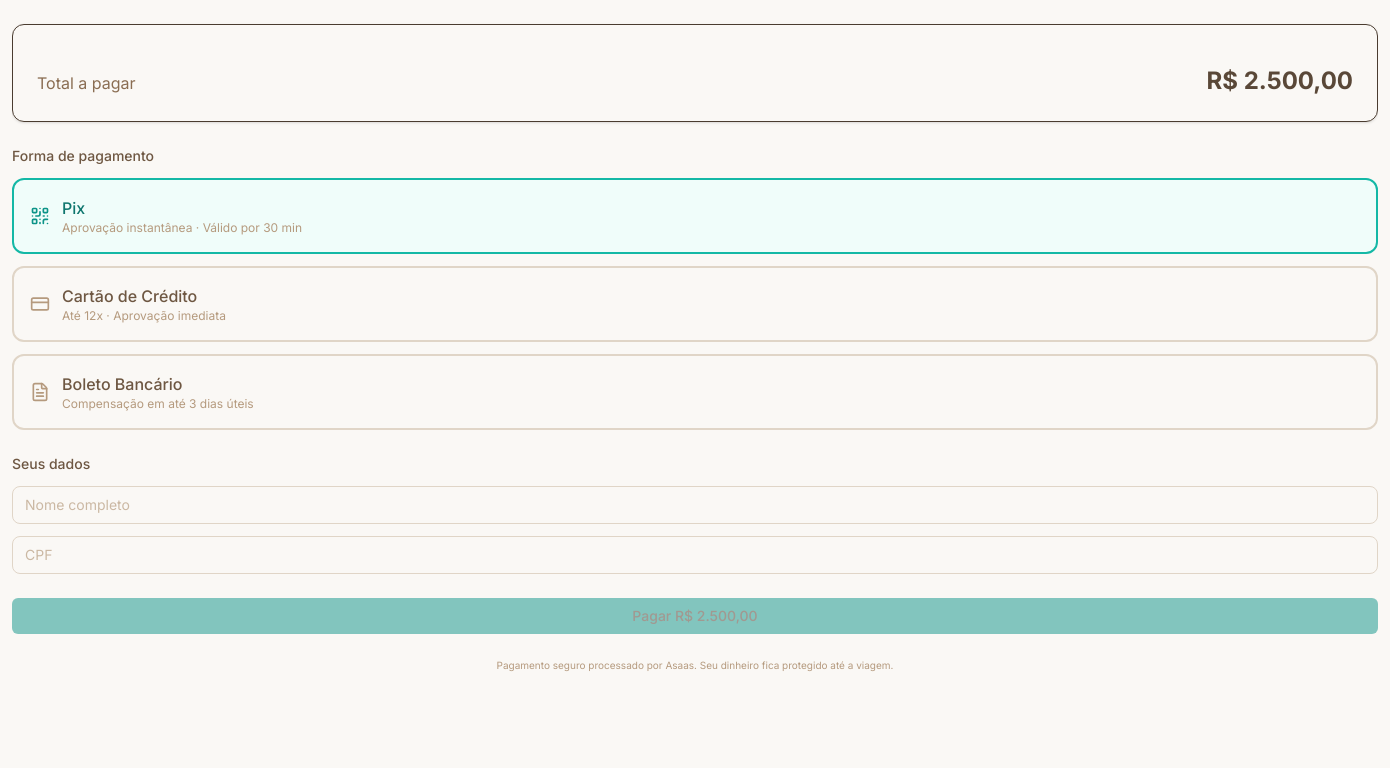
Scenario: CheckoutForm › enables submit when fields are filled
In the field with test id "input-name": {"x": 695, "y": 505} left=12, top=486, right=1378, bottom=524, type "João Silva"
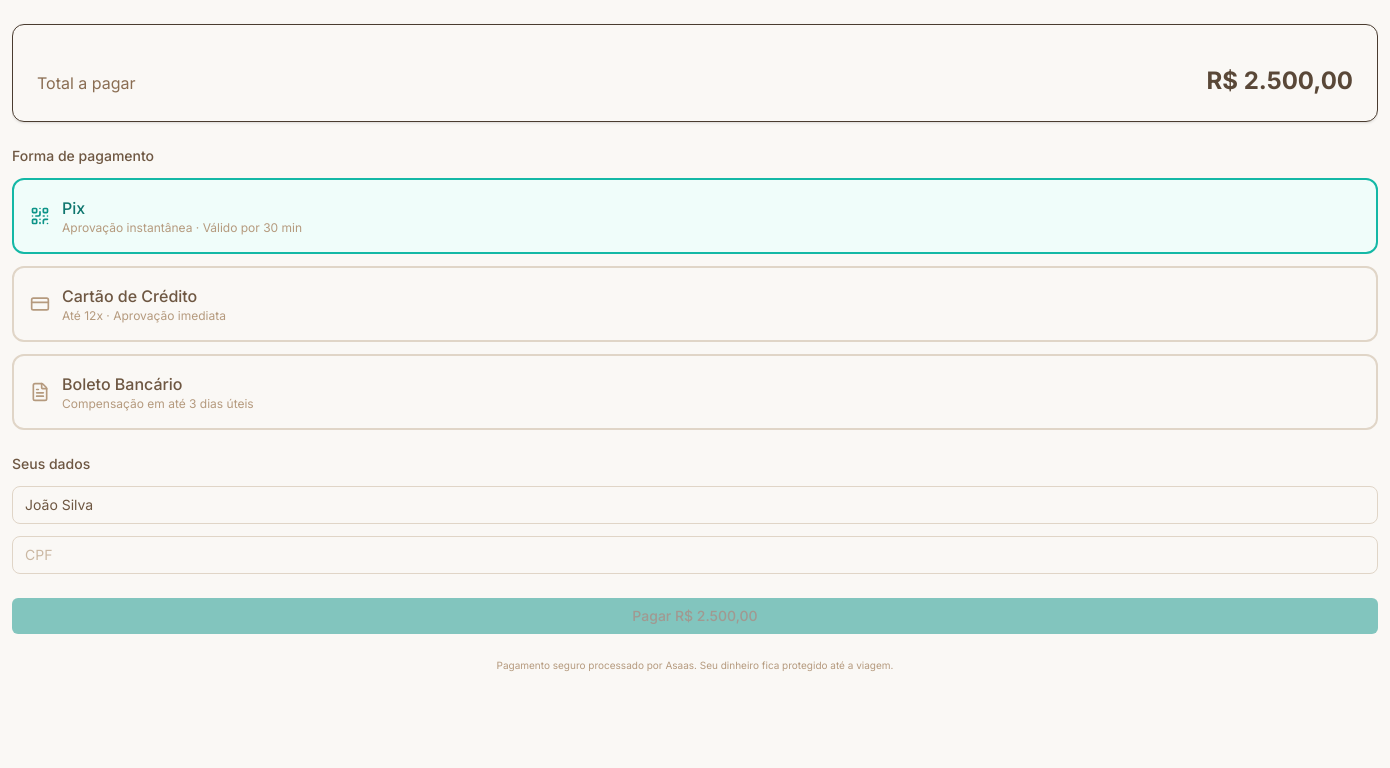
In the field with test id "input-cpf": {"x": 695, "y": 555} left=12, top=536, right=1378, bottom=574, type "123.456.789-00"
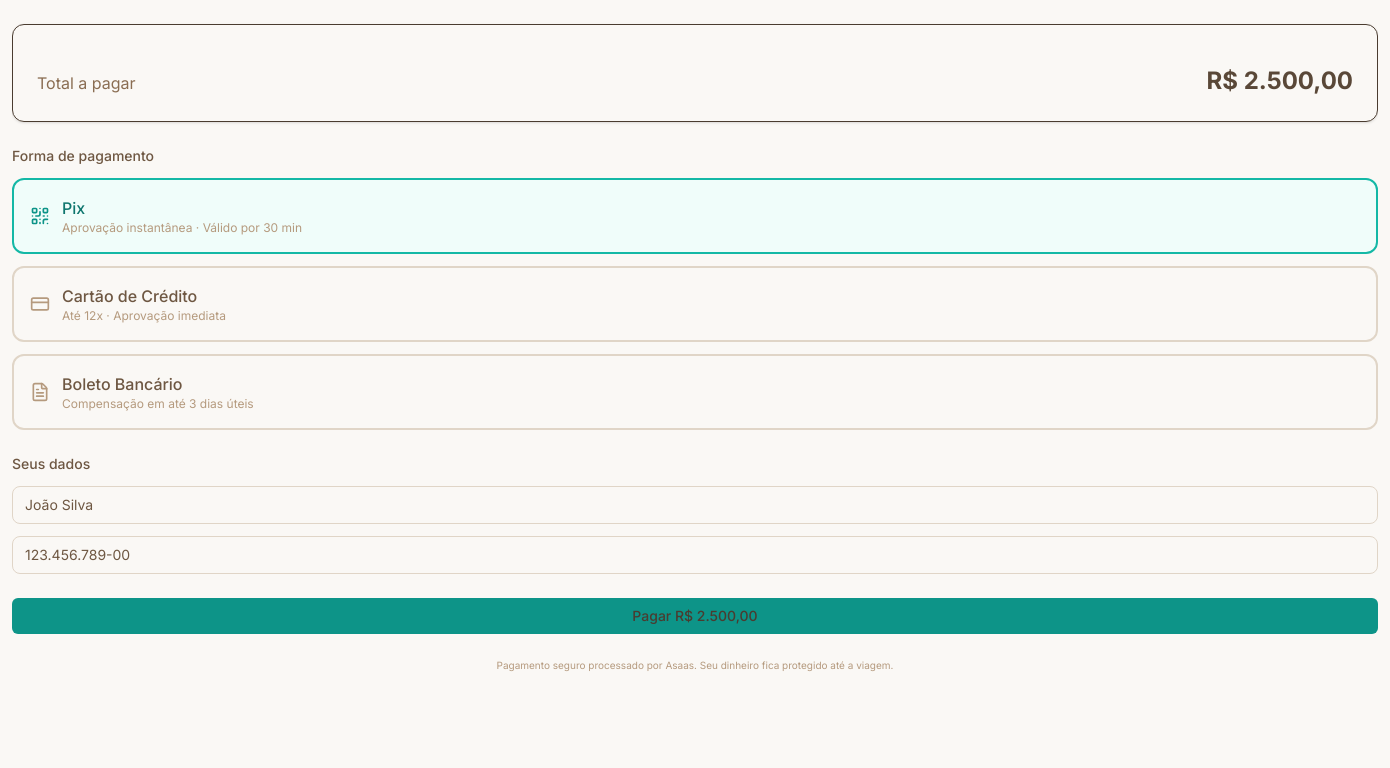
Now the button with test id "checkout-submit" is enabled, box left=12, top=598, right=1378, bottom=634
